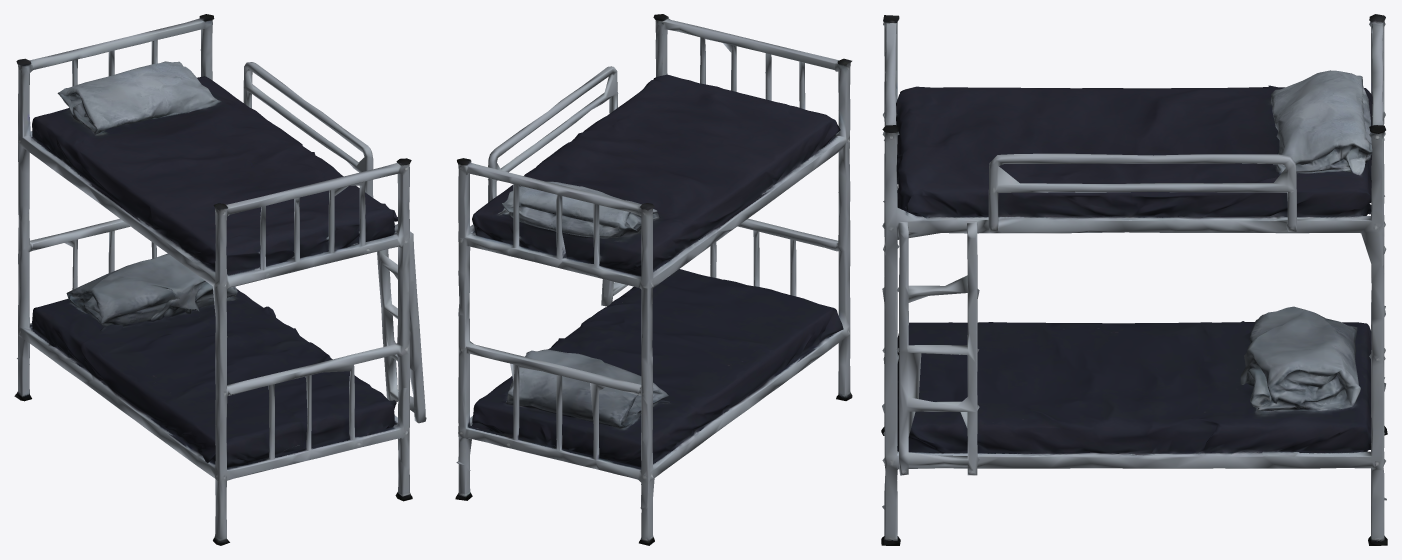
The model's file is bunk-bed.glb.
The picture shows the model from 3 angles, left to right: view 1: azimuth 30°, elevation 25°; view 2: azimuth 150°, elevation 25°; view 3: azimuth 270°, elevation 25°; orthographic projection. The views are drawn at different scales.
Parts seen in each view (by area): view 1: tripo_node_01a2180b-1d43-783b-9173-6aa850ea1eca; view 2: tripo_node_01a2180b-1d43-783b-9173-6aa850ea1eca; view 3: tripo_node_01a2180b-1d43-783b-9173-6aa850ea1eca.
Part boxes in pixels (bbox=[...]): tripo_node_01a2180b-1d43-783b-9173-6aa850ea1eca: bbox=[14, 14, 426, 545]; tripo_node_01a2180b-1d43-783b-9173-6aa850ea1eca: bbox=[455, 14, 852, 545]; tripo_node_01a2180b-1d43-783b-9173-6aa850ea1eca: bbox=[881, 14, 1387, 545].
Size of the model in its own units: 0.6129 by 0.9075 by 1.
1 material, 1 textured.
